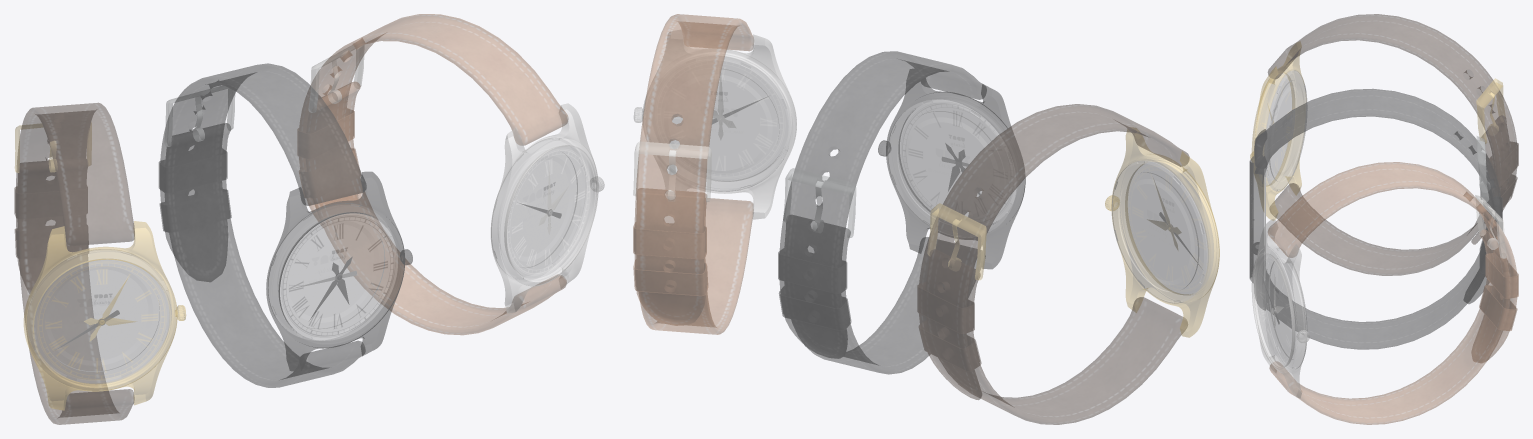
File: vintage_watch.glb
The picture shows the model from 3 angles, left to right: view 1: azimuth 30°, elevation 25°; view 2: azimuth 150°, elevation 25°; view 3: azimuth 270°, elevation 25°; orthographic projection. The views are drawn at different scales.
Parts seen in each view (by area): view 1: Object_4, Object_3, Object_2; view 2: Object_4, Object_2, Object_3; view 3: Object_3, Object_2, Object_4.
Boxes of the visible parts, box(x1,y1,x2,y2) form: Object_4: box(159, 63, 412, 387); Object_3: box(297, 14, 604, 334); Object_2: box(14, 103, 185, 424); Object_4: box(778, 51, 1025, 374); Object_2: box(917, 104, 1219, 424); Object_3: box(633, 14, 796, 334); Object_3: box(1252, 162, 1518, 424); Object_2: box(1250, 14, 1518, 275); Object_4: box(1249, 89, 1502, 349).
Size of the model in its own units: 12.82 by 6.07 by 6.25.
Materials: 3 (3 with a texture image).
